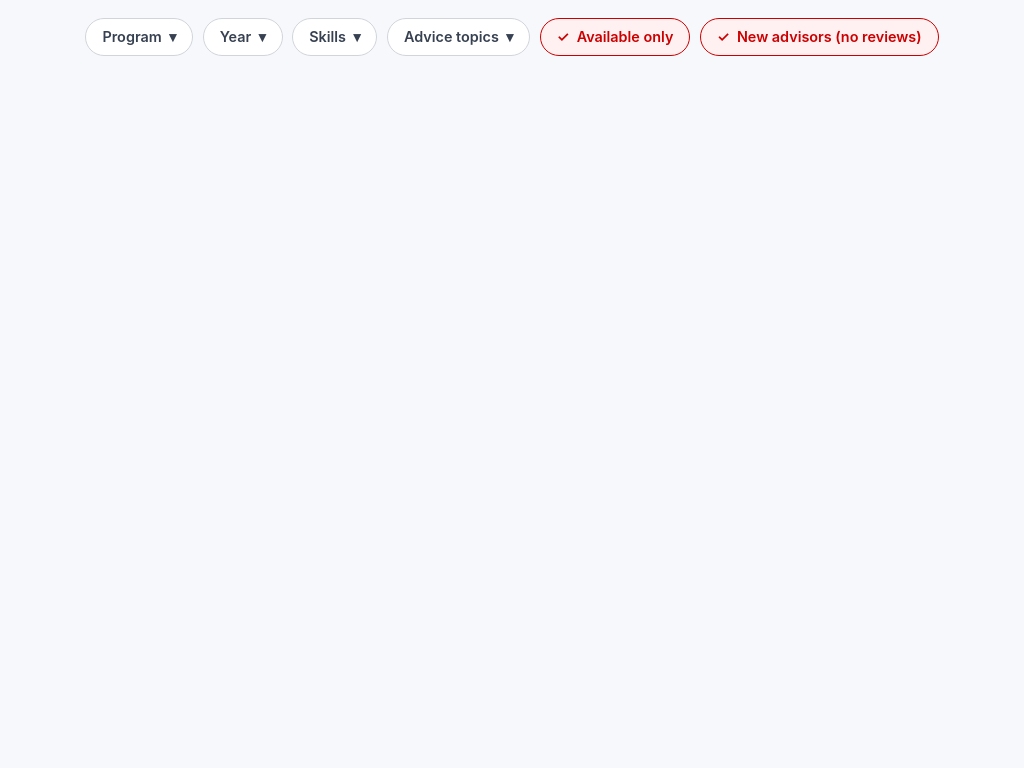
it: FilterBar › applies a typed filter from its pill
Click the button "Advice topics ▾" at (459, 37), box [387,18,530,56]
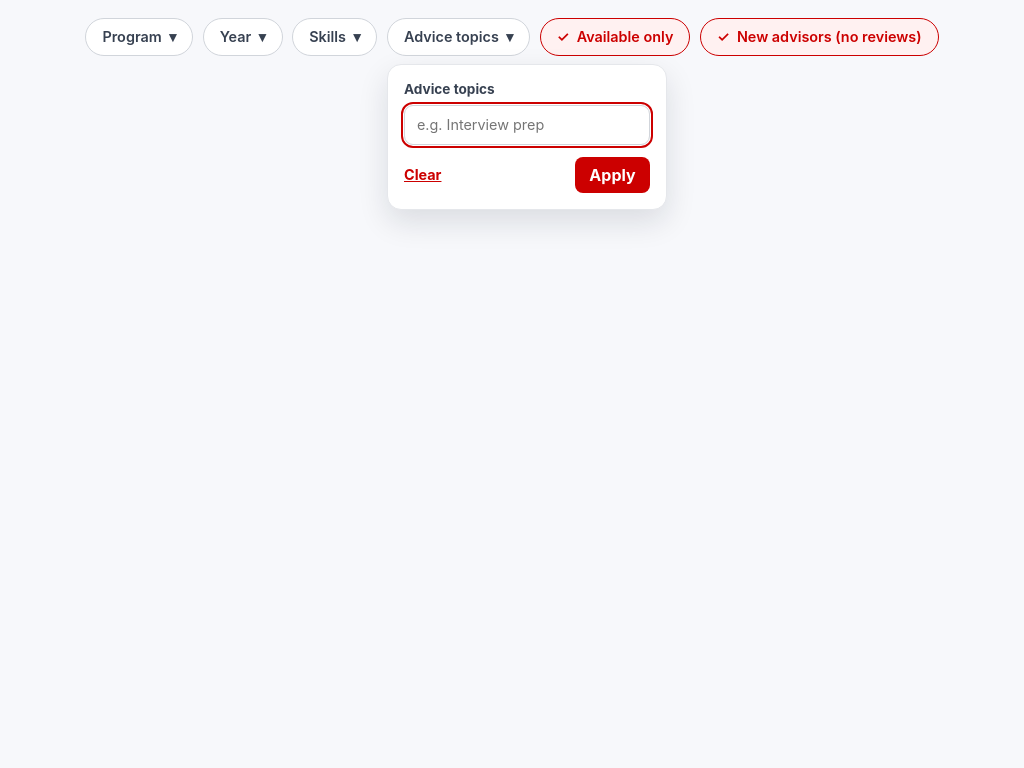
Type " interview prep " into the field labelled "Advice topics" at (527, 125), box [404,105,650,145]
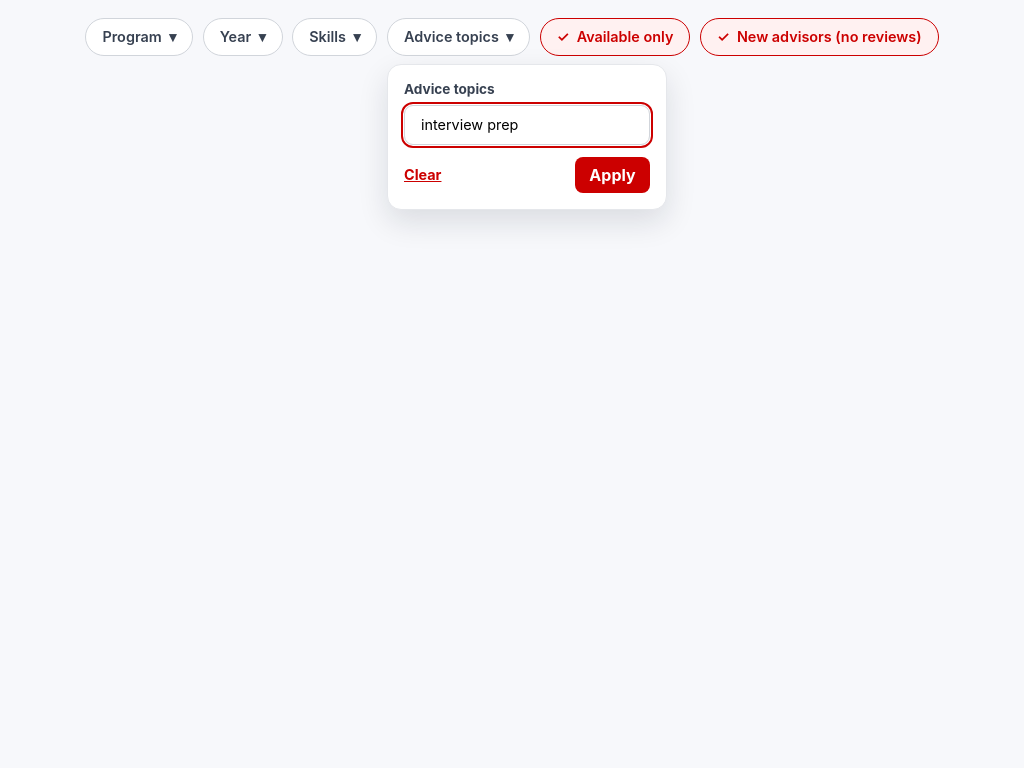
Click the button "Apply" at (612, 175), box [575,157,650,193]
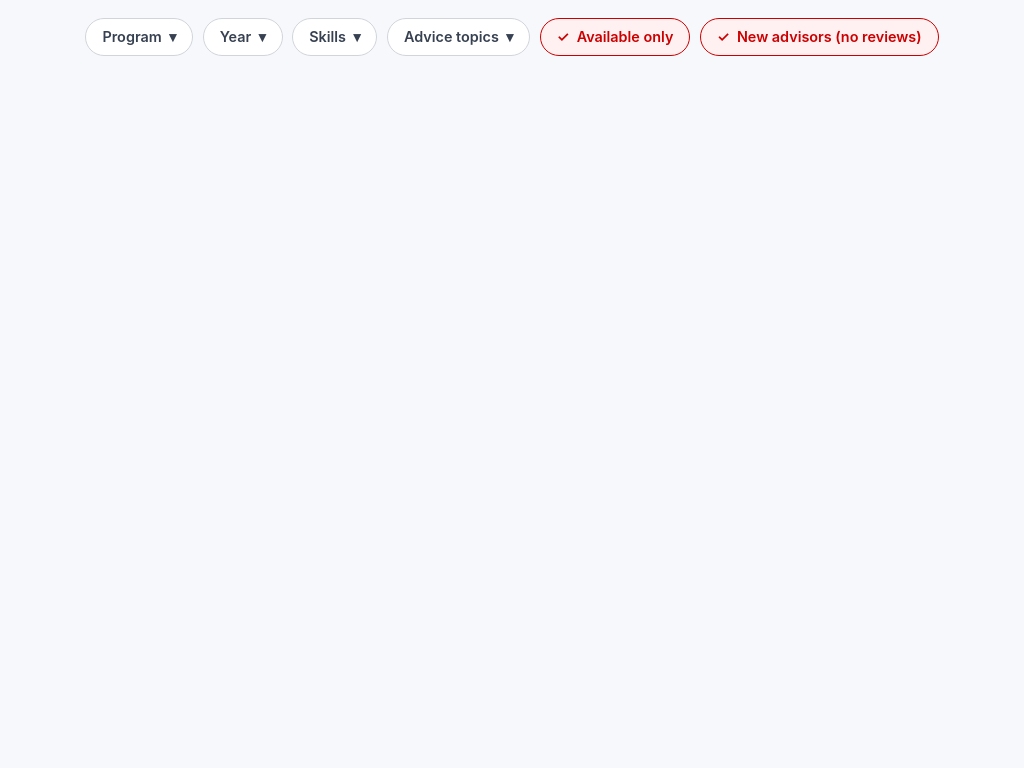
Check: the dialog is gone
